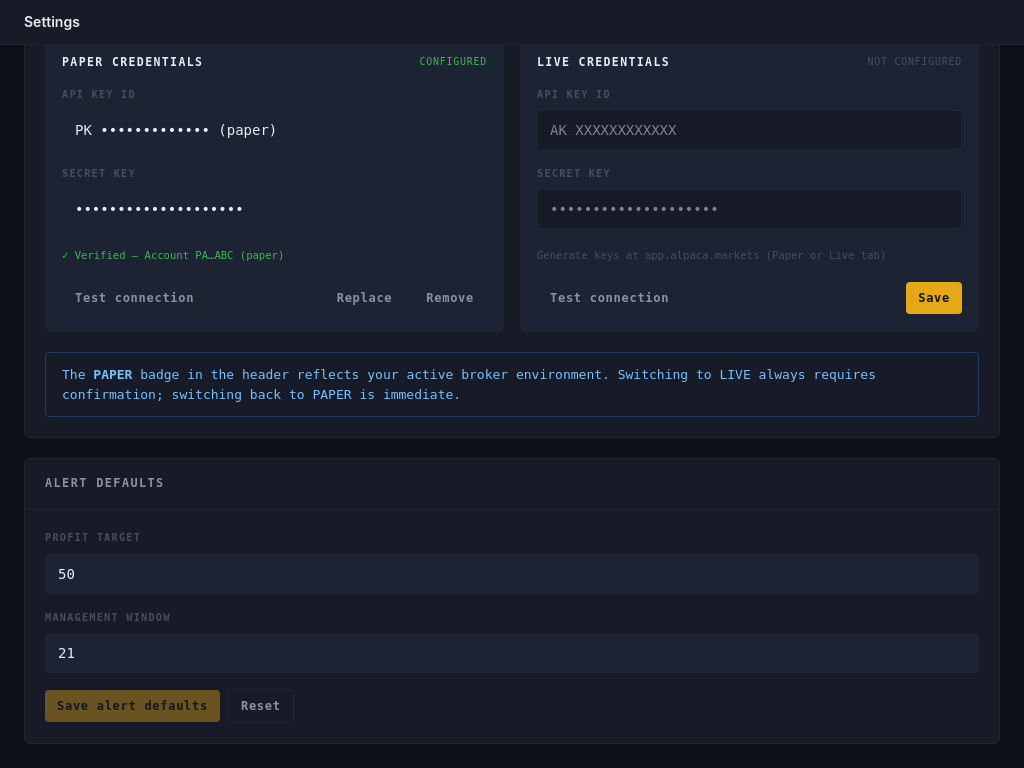
Scenario: surfaces server-side field errors from a rejected save the same as client-side validation
(page scrolled)
Replace the text in the number field labelled "Profit Target" with "40": [512, 574] box [45,554,979,594]
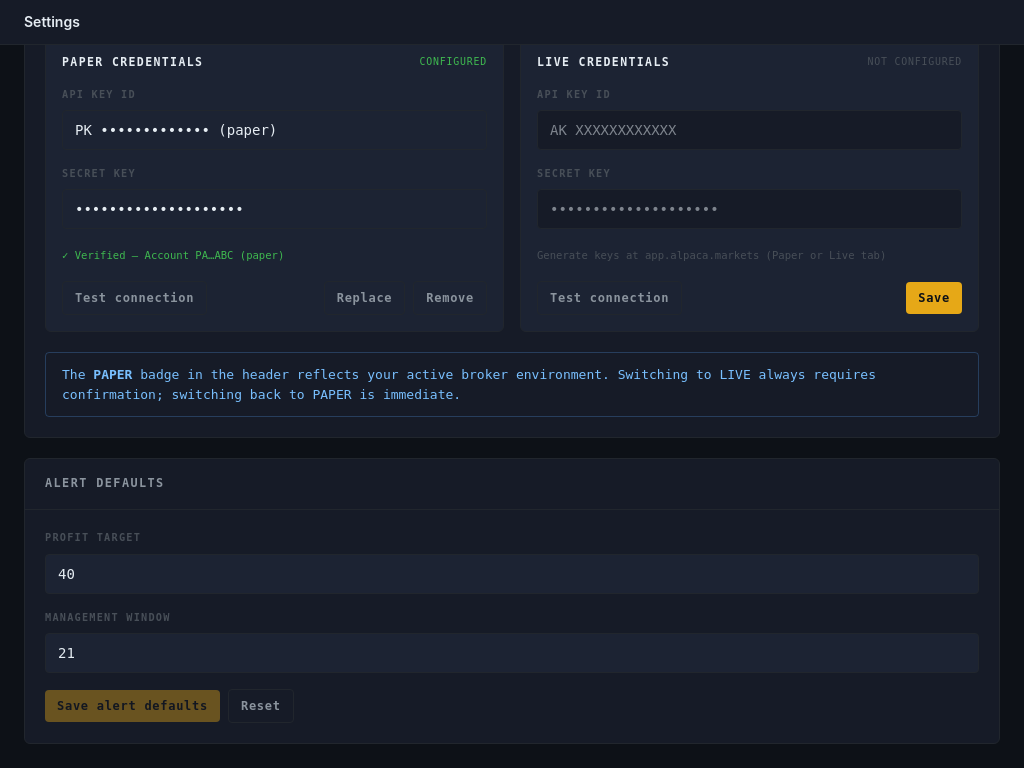
Replace the text in the number field labelled "Management Window" with "14": [512, 653] box [45,633,979,673]
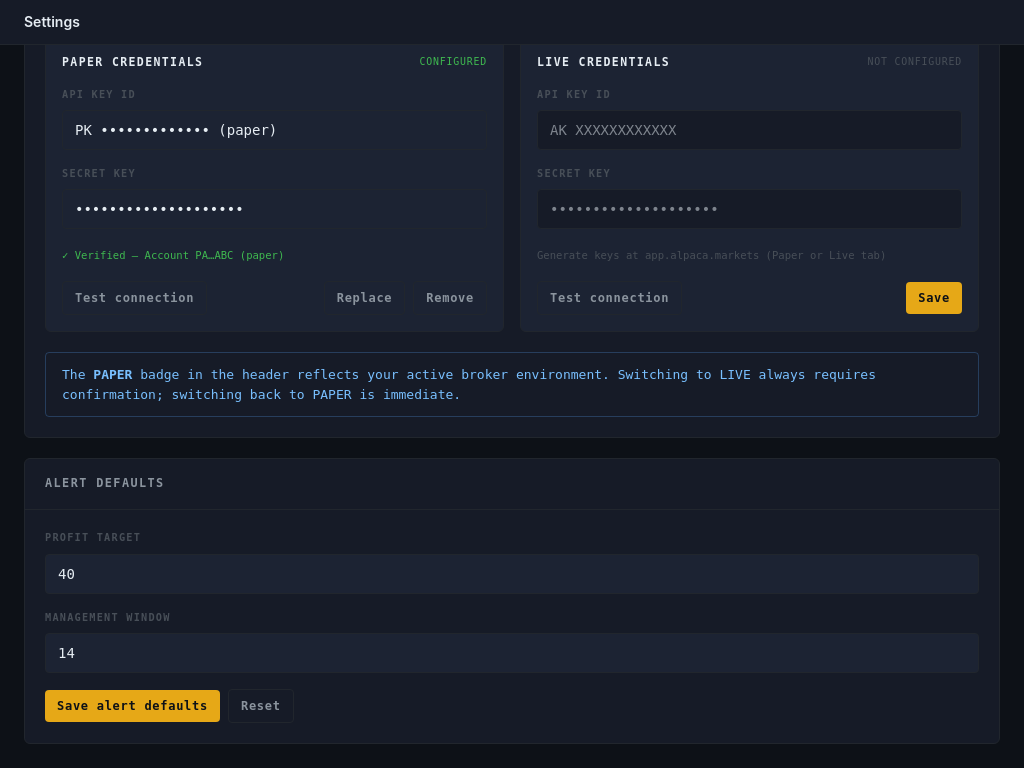
Result: the button "Save alert defaults" is enabled
Click the button "Save alert defaults": [132, 706] box [45,690,220,722]
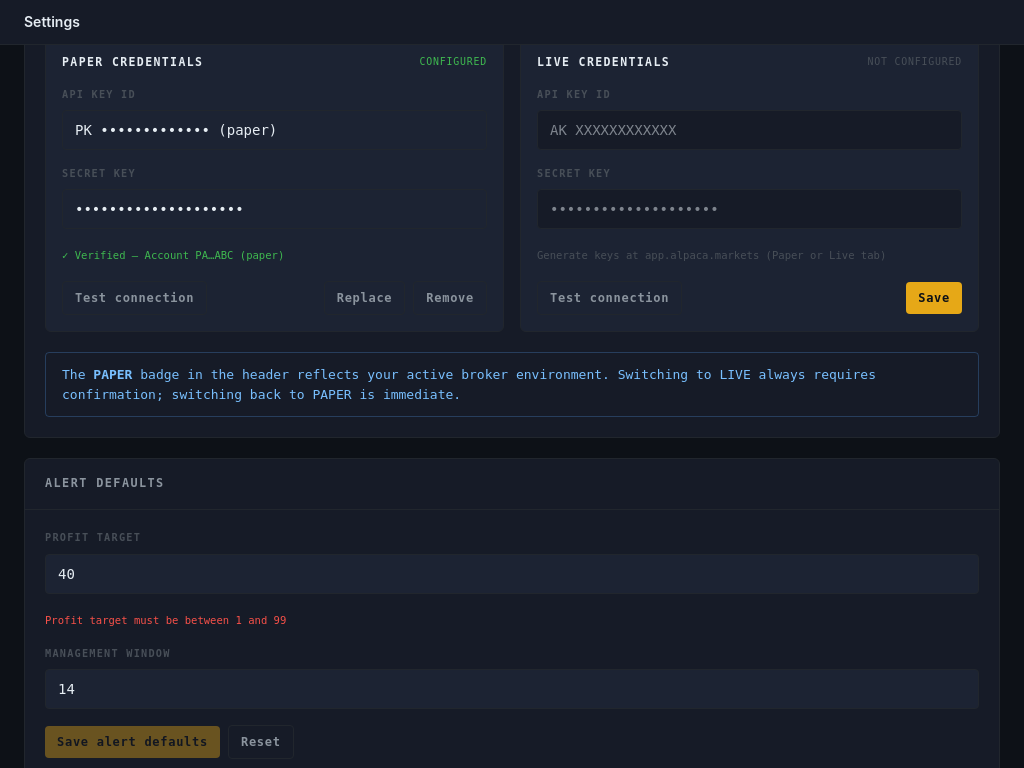
Result: the text "Profit target must be between 1 and 99" is shown at [45,614,286,626]
